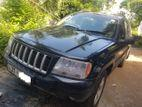car: (4, 10, 132, 107)
